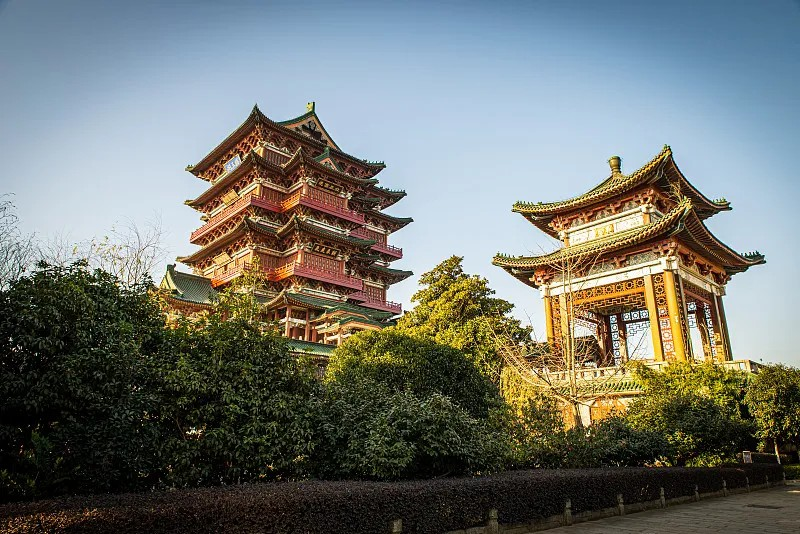Teng: (155, 100, 413, 325)
